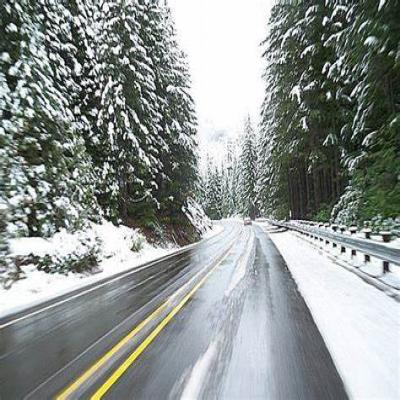iced-road: (0, 224, 348, 400)
